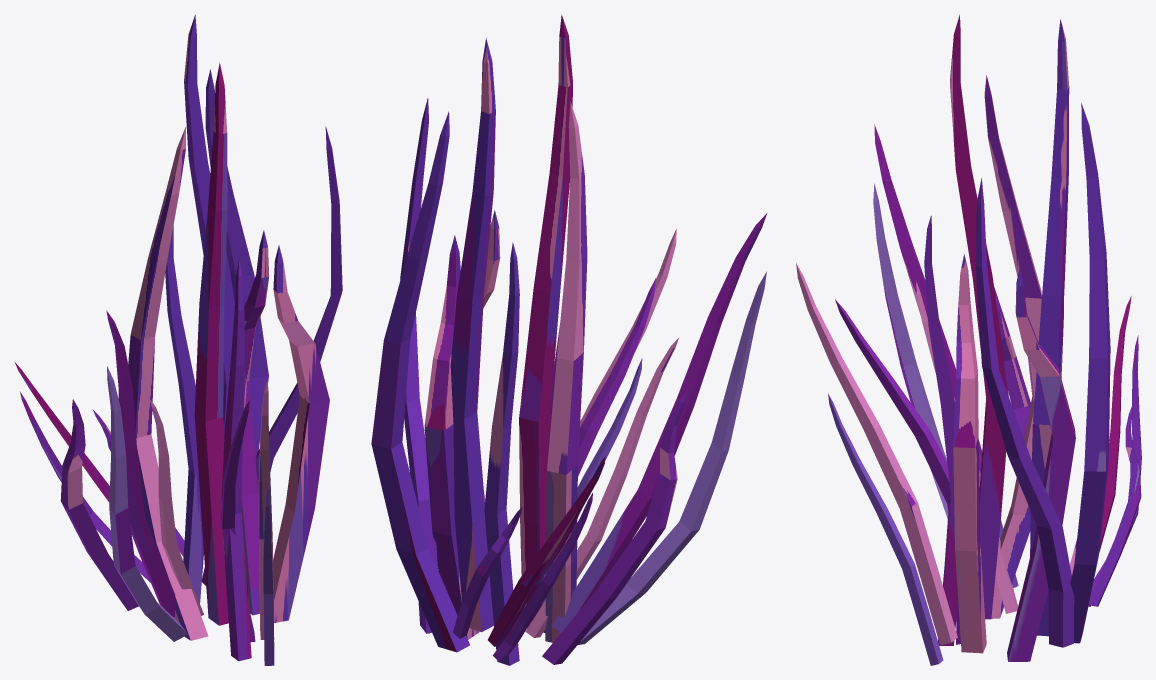
The model's file is Mesh_Grass1.fbx.
3 views of the same model, side by side, from view 1: azimuth 30°, elevation 25°; view 2: azimuth 150°, elevation 25°; view 3: azimuth 270°, elevation 25° (orthographic). The views are drawn at different scales.
Visible parts, largest first — view 1: Cube.068, Cube.074, Cube.069, Cube.071, Cube.075, Cube.081, Cube.070, Cube.072, Cube.080, Cube.073, Cube.082, Cube.084 (+6 smaller); view 2: Cube.073, Cube.072, Cube.068, Cube.069, Cube.070, Cube.080, Cube.081, Cube.075, Cube.082, Cube.084, Cube.083, Cube.086 (+7 smaller); view 3: Cube.073, Cube.074, Cube.084, Cube.068, Cube.072, Cube.070, Cube.085, Cube.069, Cube.071, Cube.081, Cube.087, Cube.086 (+6 smaller).
Part boxes in pixels (x1,y1,x2,y2): Cube.068: (194, 62, 228, 625); Cube.074: (273, 245, 329, 622); Cube.069: (128, 127, 208, 640); Cube.071: (221, 260, 251, 661); Cube.075: (165, 226, 203, 603); Cube.081: (107, 366, 187, 641); Cube.070: (241, 230, 269, 615); Cube.072: (184, 14, 246, 582); Cube.080: (106, 310, 175, 617); Cube.073: (202, 69, 268, 585); Cube.082: (60, 399, 138, 610); Cube.084: (255, 126, 342, 495); Cube.073: (371, 111, 469, 652); Cube.072: (450, 37, 495, 632); Cube.068: (519, 14, 572, 620); Cube.069: (545, 102, 587, 642); Cube.070: (424, 235, 479, 639); Cube.080: (551, 213, 767, 632); Cube.081: (578, 271, 766, 644); Cube.075: (484, 242, 519, 665); Cube.082: (542, 390, 688, 664); Cube.084: (400, 98, 437, 633); Cube.083: (525, 338, 678, 637); Cube.086: (528, 278, 655, 626); Cube.073: (1070, 103, 1110, 643); Cube.074: (953, 254, 986, 653); Cube.084: (975, 178, 1074, 647); Cube.068: (950, 14, 1008, 619); Cube.072: (1030, 19, 1069, 625); Cube.070: (1007, 267, 1075, 661); Cube.085: (796, 263, 957, 645); Cube.069: (984, 75, 1041, 618); Cube.071: (924, 215, 957, 645); Cube.081: (873, 183, 948, 519); Cube.087: (828, 393, 943, 665); Cube.086: (835, 299, 960, 644).
Size of the model in its own units: 190 by 379 by 186.
